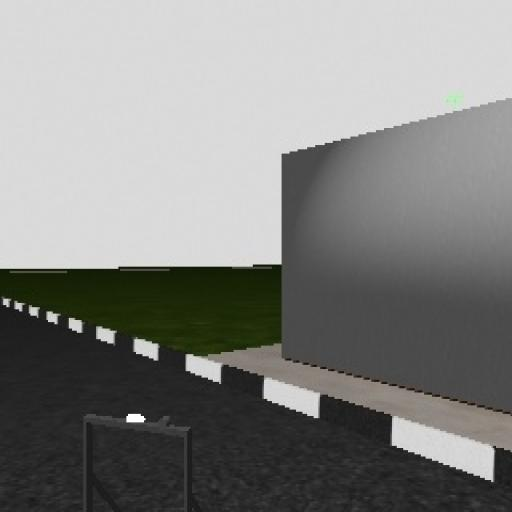huskya200: (44, 390, 212, 512)
